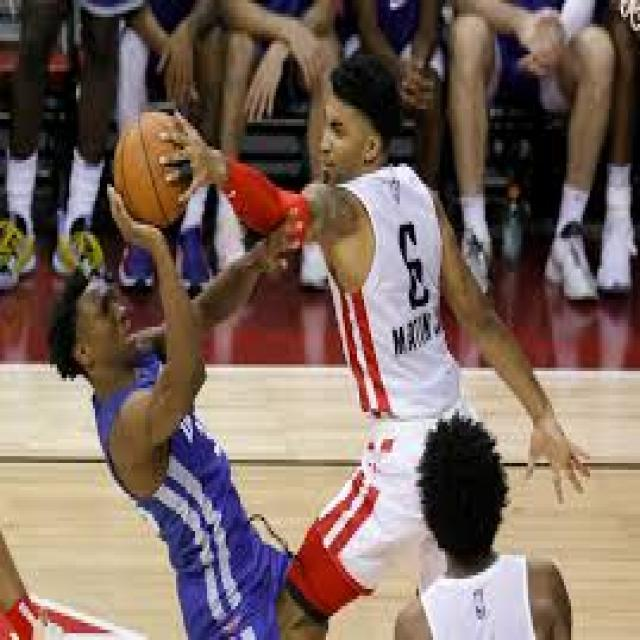rim: (116, 112, 188, 218)
